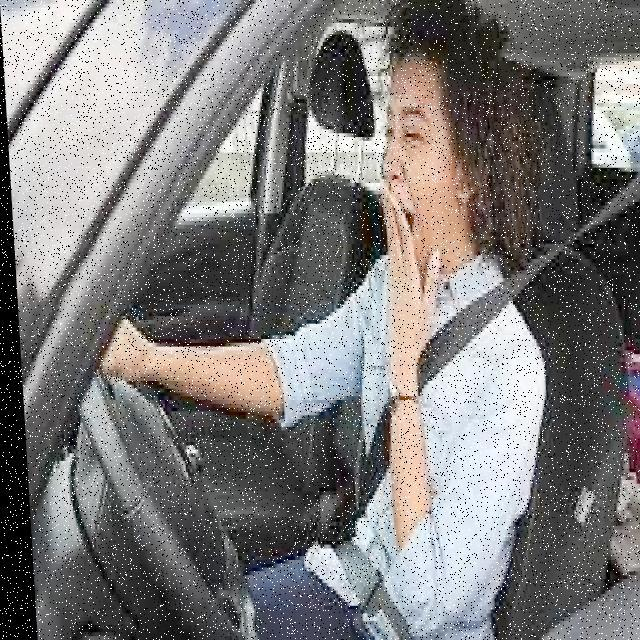seatbelt: (290, 222, 563, 640)
